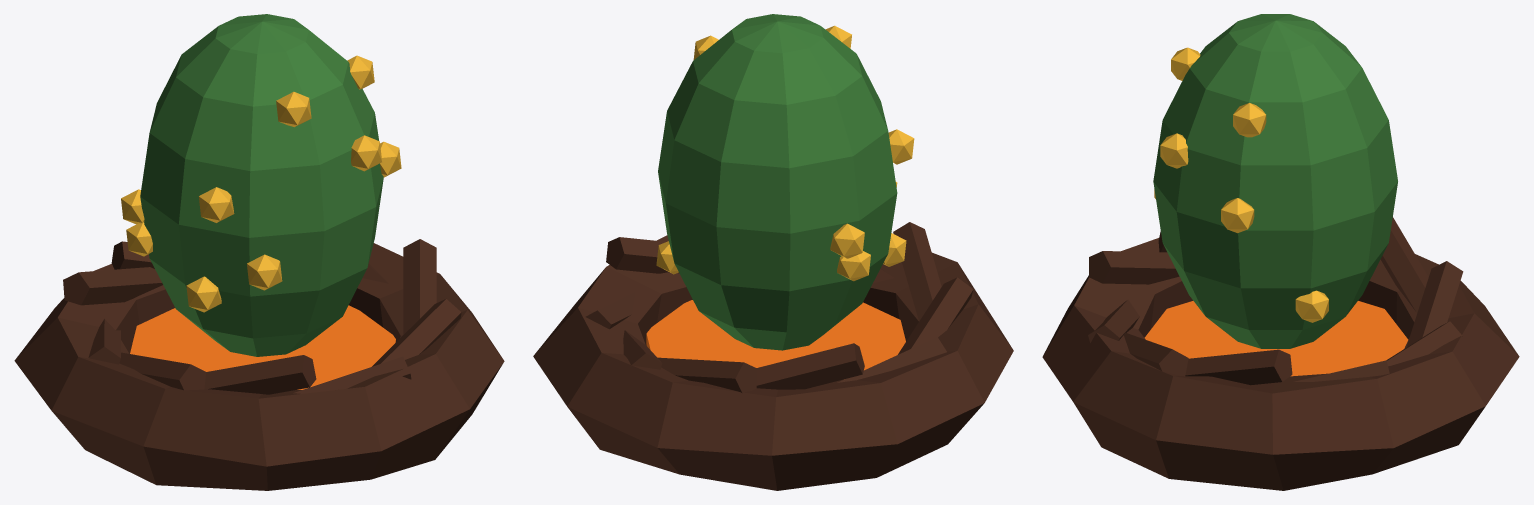
The model's file is DragonEgg.fbx.
3 views of the same model, side by side, from view 1: azimuth 30°, elevation 25°; view 2: azimuth 150°, elevation 25°; view 3: azimuth 270°, elevation 25° (orthographic).
Parts seen in each view (by area): view 1: DragonEgg, DragonEgg_Glow; view 2: DragonEgg, DragonEgg_Glow; view 3: DragonEgg, DragonEgg_Glow.
Part boxes in pixels (x1,y1,x2,y2): DragonEgg: (14,14,504,490); DragonEgg_Glow: (130,305,395,389); DragonEgg: (533,14,1013,490); DragonEgg_Glow: (646,300,905,370); DragonEgg: (1042,14,1519,490); DragonEgg_Glow: (1144,301,1408,376).
Bounding box in the file's own units: 388 × 348 × 390.
1 material, 1 textured.
